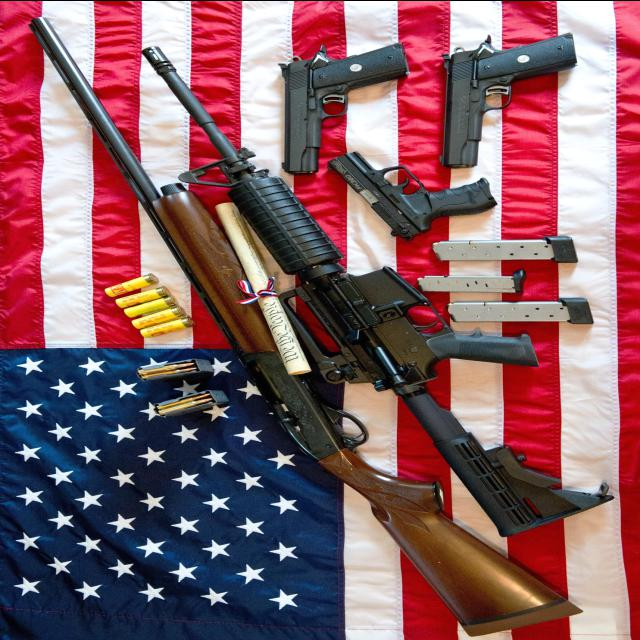handgun: (437, 29, 575, 170), (280, 41, 408, 176), (326, 152, 496, 242)
